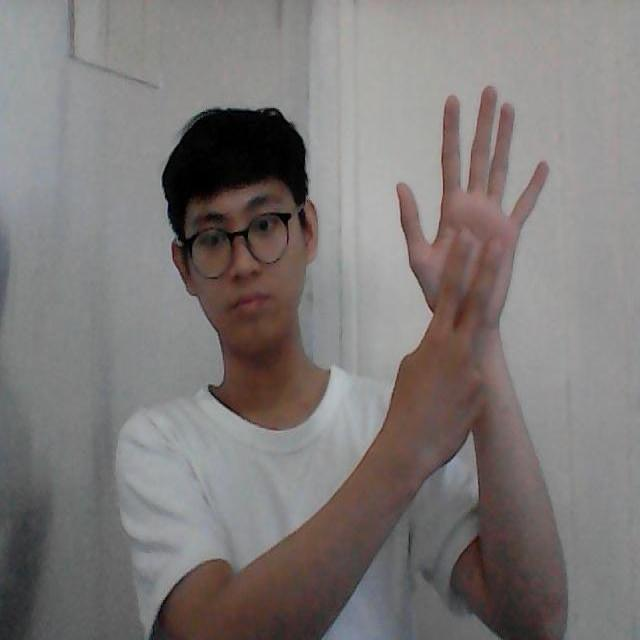N: (390, 67, 558, 341)
